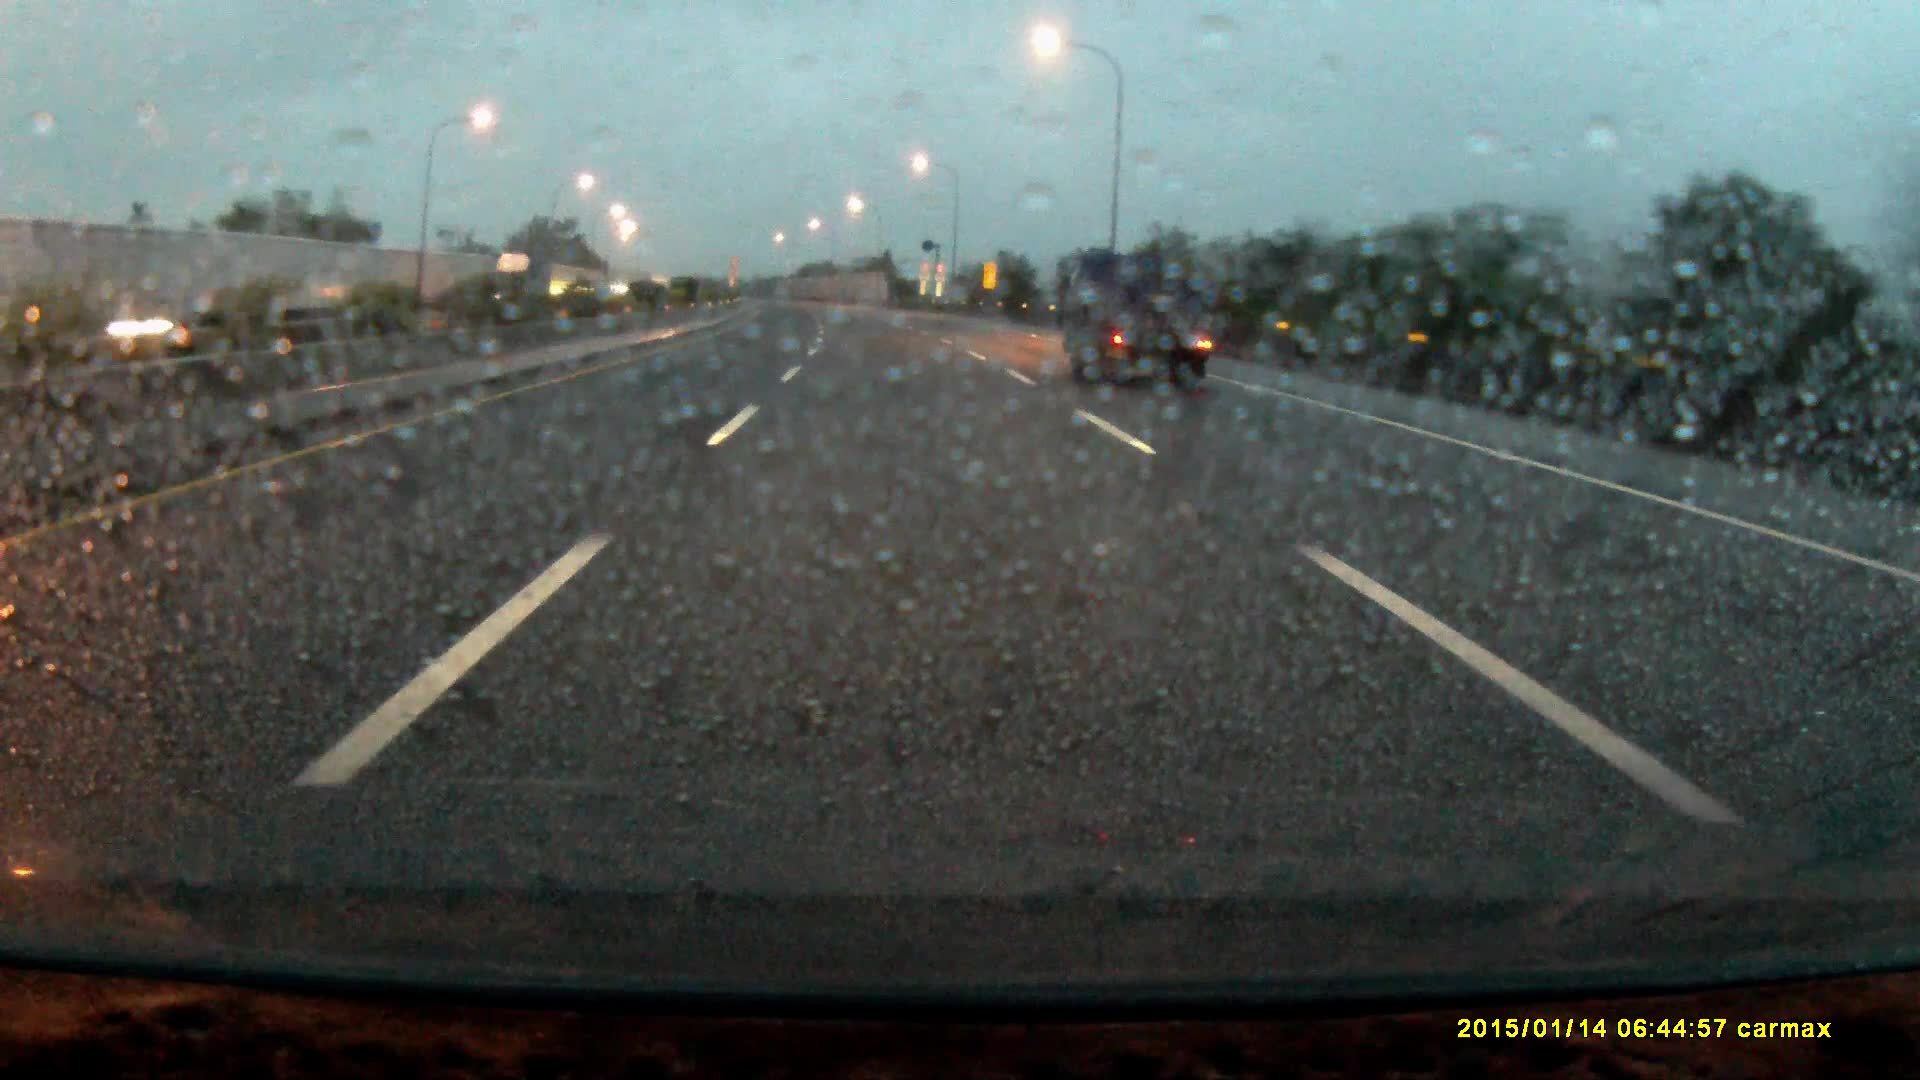vehicle: (1062, 252, 1211, 400), (491, 253, 554, 326)
